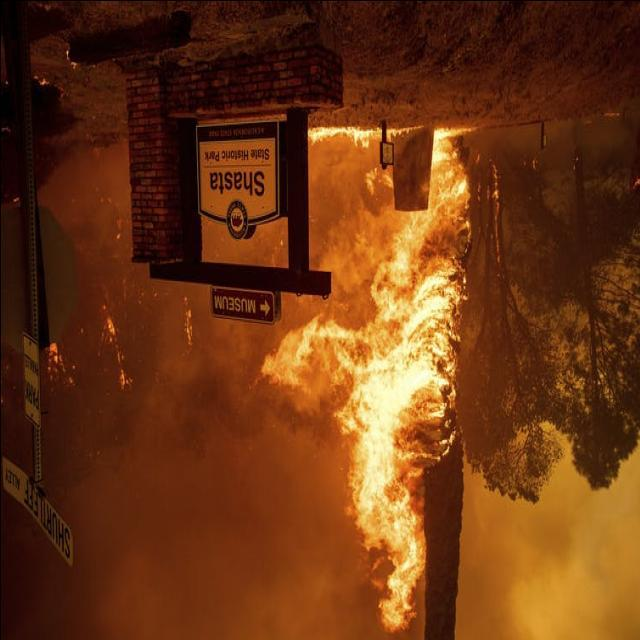Fire: (268, 130, 460, 632)
